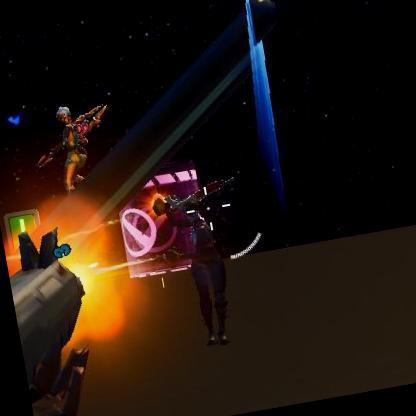person: (180, 222, 240, 349), (46, 100, 99, 196)
